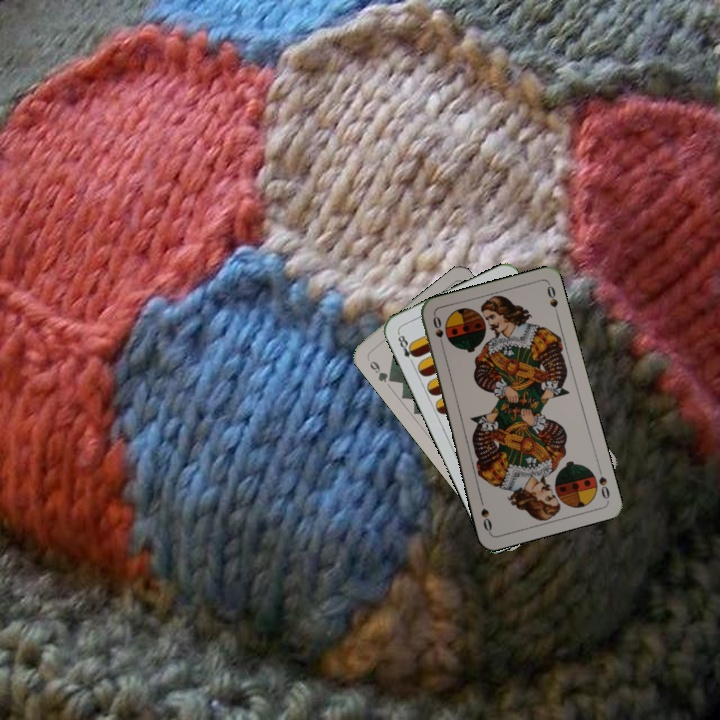E8: (394, 329, 419, 367)
G9: (363, 353, 396, 385)
SO: (429, 312, 447, 352), (594, 463, 612, 502)
